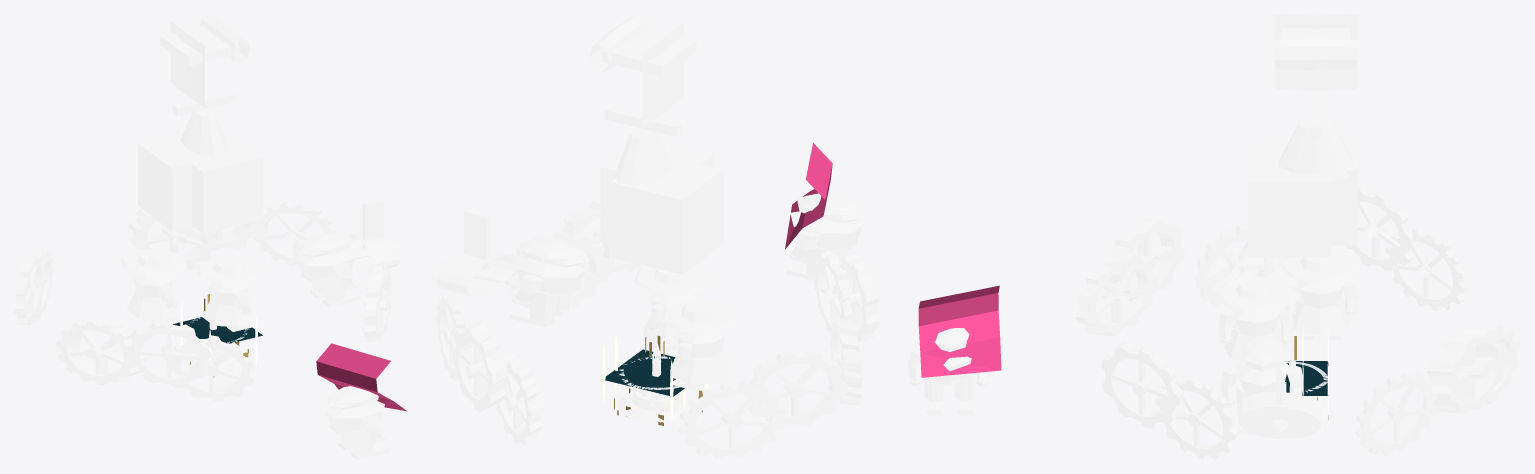
The model's file is ile-horloge-v5.glb.
3 views of the same model, side by side, from view 1: azimuth 30°, elevation 25°; view 2: azimuth 150°, elevation 25°; view 3: azimuth 270°, elevation 25° (orthographic). The views are drawn at different scales.
Parts seen in each view (by area): view 1: ile_anime1.036, ile_anime5.022, ile_anime13.003, ile_copie0.022, ile_anime18, ile_copie1.015, ile_anime17.001, ile_anime3.032, ile_anime15.002, ile_banniere0.022, ile_anime4.026, ile_anime14.002 (+11 smaller); view 2: ile_anime2.036, ile_anime3.032, ile_anime5.022, ile_copie0.022, ile_copie1.015, ile_anime11.006, ile_anime17.001, ile_anime16.001, ile_anime12.004, ile_anime10.006, ile_anime4.026, ile_anime18 (+13 smaller); view 3: ile_anime0.036, ile_anime5.022, ile_banniere0.022, ile_copie1.015, ile_anime10.006, ile_anime18, ile_anime14.002, ile_anime7.006, ile_anime16.001, ile_anime4.026, ile_anime8.006, ile_copie0.022 (+10 smaller).
Part boxes in pixels (bbox=[...]): ile_anime1.036: bbox=[192, 133, 262, 234]; ile_anime5.022: bbox=[160, 14, 249, 107]; ile_anime13.003: bbox=[55, 317, 147, 384]; ile_copie0.022: bbox=[297, 232, 360, 307]; ile_anime18: bbox=[196, 255, 262, 331]; ile_copie1.015: bbox=[120, 248, 186, 322]; ile_anime17.001: bbox=[325, 386, 388, 459]; ile_anime3.032: bbox=[138, 132, 191, 230]; ile_anime15.002: bbox=[127, 320, 211, 388]; ile_banniere0.022: bbox=[316, 343, 406, 411]; ile_anime4.026: bbox=[172, 91, 236, 156]; ile_anime14.002: bbox=[171, 335, 253, 401]; ile_anime2.036: bbox=[610, 163, 722, 273]; ile_anime3.032: bbox=[611, 157, 723, 274]; ile_anime5.022: bbox=[589, 14, 696, 126]; ile_copie0.022: bbox=[509, 237, 586, 327]; ile_copie1.015: bbox=[661, 298, 740, 390]; ile_anime11.006: bbox=[678, 381, 785, 459]; ile_anime17.001: bbox=[786, 193, 863, 280]; ile_anime16.001: bbox=[436, 209, 515, 296]; ile_anime12.004: bbox=[745, 349, 847, 427]; ile_anime10.006: bbox=[452, 319, 507, 411]; ile_anime4.026: bbox=[605, 106, 681, 185]; ile_anime18: bbox=[634, 264, 713, 352]; ile_anime0.036: bbox=[1248, 146, 1330, 256]; ile_anime5.022: bbox=[1274, 14, 1357, 90]; ile_banniere0.022: bbox=[918, 285, 1001, 377]; ile_copie1.015: bbox=[1279, 249, 1361, 339]; ile_anime10.006: bbox=[1426, 329, 1506, 413]; ile_anime18: bbox=[1215, 276, 1297, 365]; ile_anime14.002: bbox=[1075, 253, 1158, 336]; ile_anime7.006: bbox=[1101, 342, 1183, 428]; ile_anime16.001: bbox=[1238, 351, 1321, 439]; ile_anime4.026: bbox=[1278, 92, 1353, 181]; ile_anime8.006: bbox=[1355, 371, 1437, 455]; ile_copie0.022: bbox=[1221, 336, 1303, 434].
Size of the model in its own units: 12.24 by 10.42 by 14.78.
